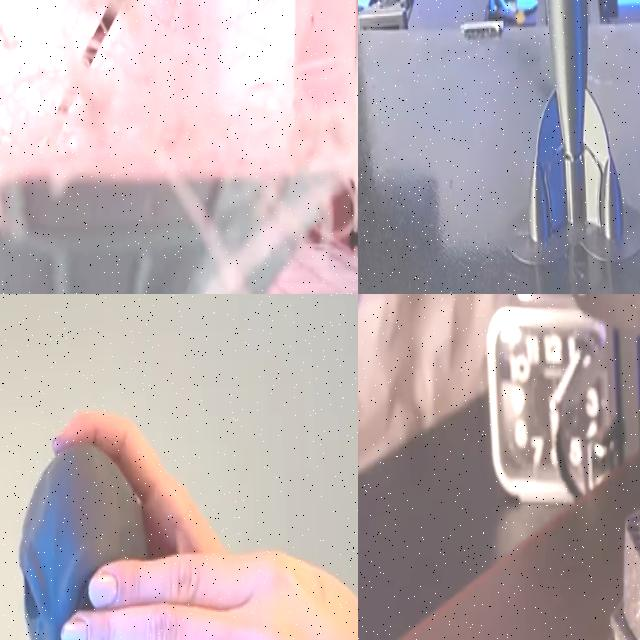spaghetti: (0, 0, 358, 294)
